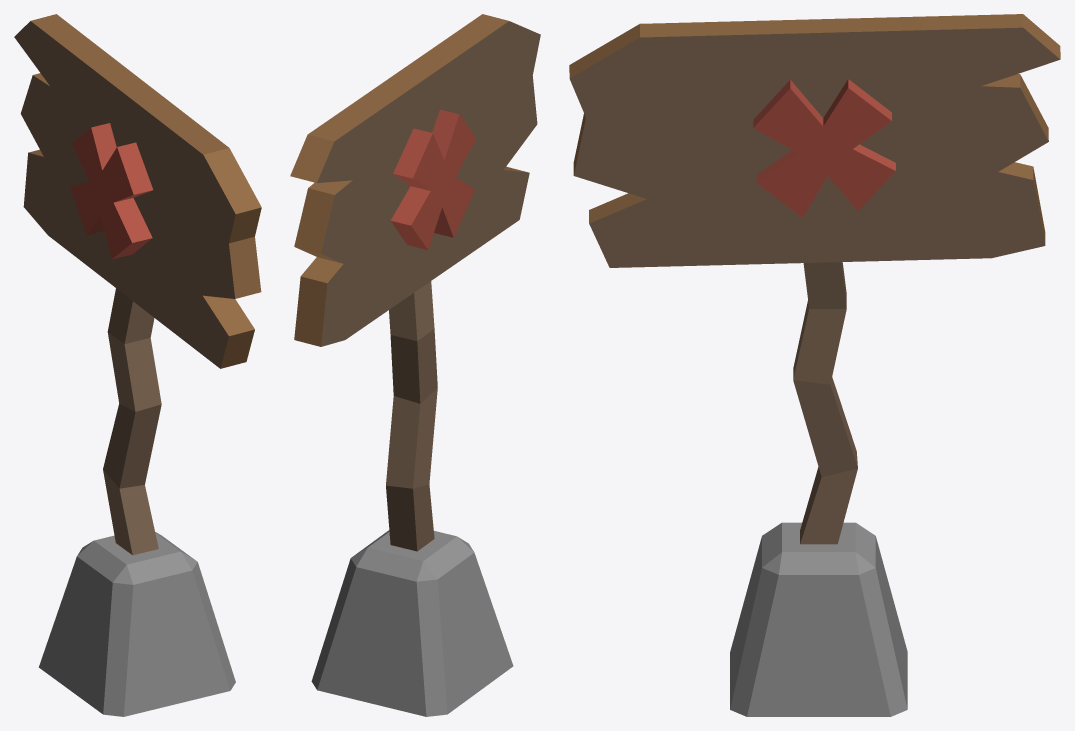
The model's file is Sign-X.fbx.
3 views of the same model, side by side, from view 1: azimuth 30°, elevation 25°; view 2: azimuth 150°, elevation 25°; view 3: azimuth 270°, elevation 25° (orthographic). The views are drawn at different scales.
Visible parts, largest first — view 1: Cube, Cube.001; view 2: Cube, Cube.001; view 3: Cube, Cube.001.
Boxes of the visible parts, box(x1,y1,x2,y2) form: Cube: box(14, 14, 261, 716); Cube.001: box(70, 123, 153, 259); Cube: box(290, 14, 540, 716); Cube.001: box(390, 109, 476, 249); Cube: box(569, 14, 1060, 716); Cube.001: box(753, 79, 895, 217).
Bounding box in the file's own units: 34.6 × 147 × 99.39.
